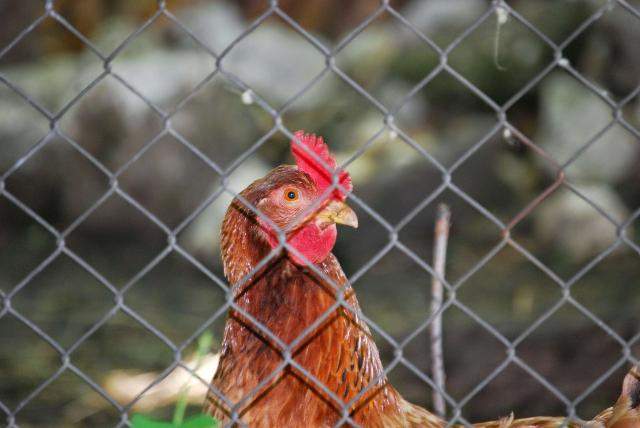Chicken: (199, 130, 452, 428)
